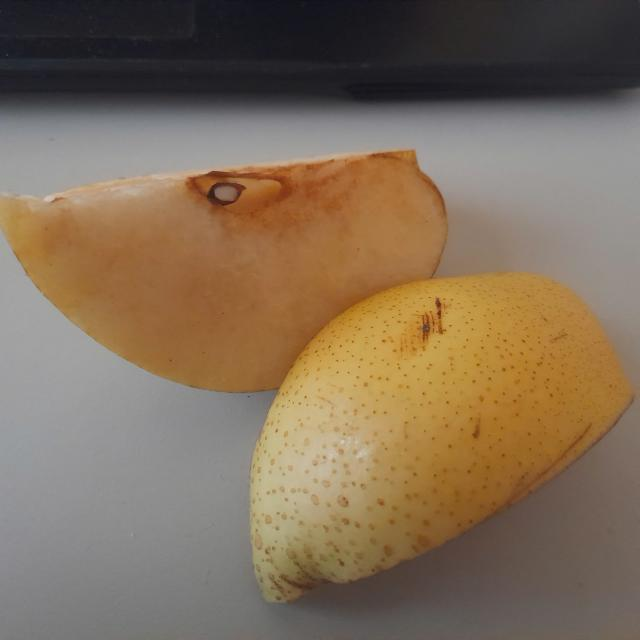Le: (248, 271, 633, 614), (7, 146, 451, 395)
